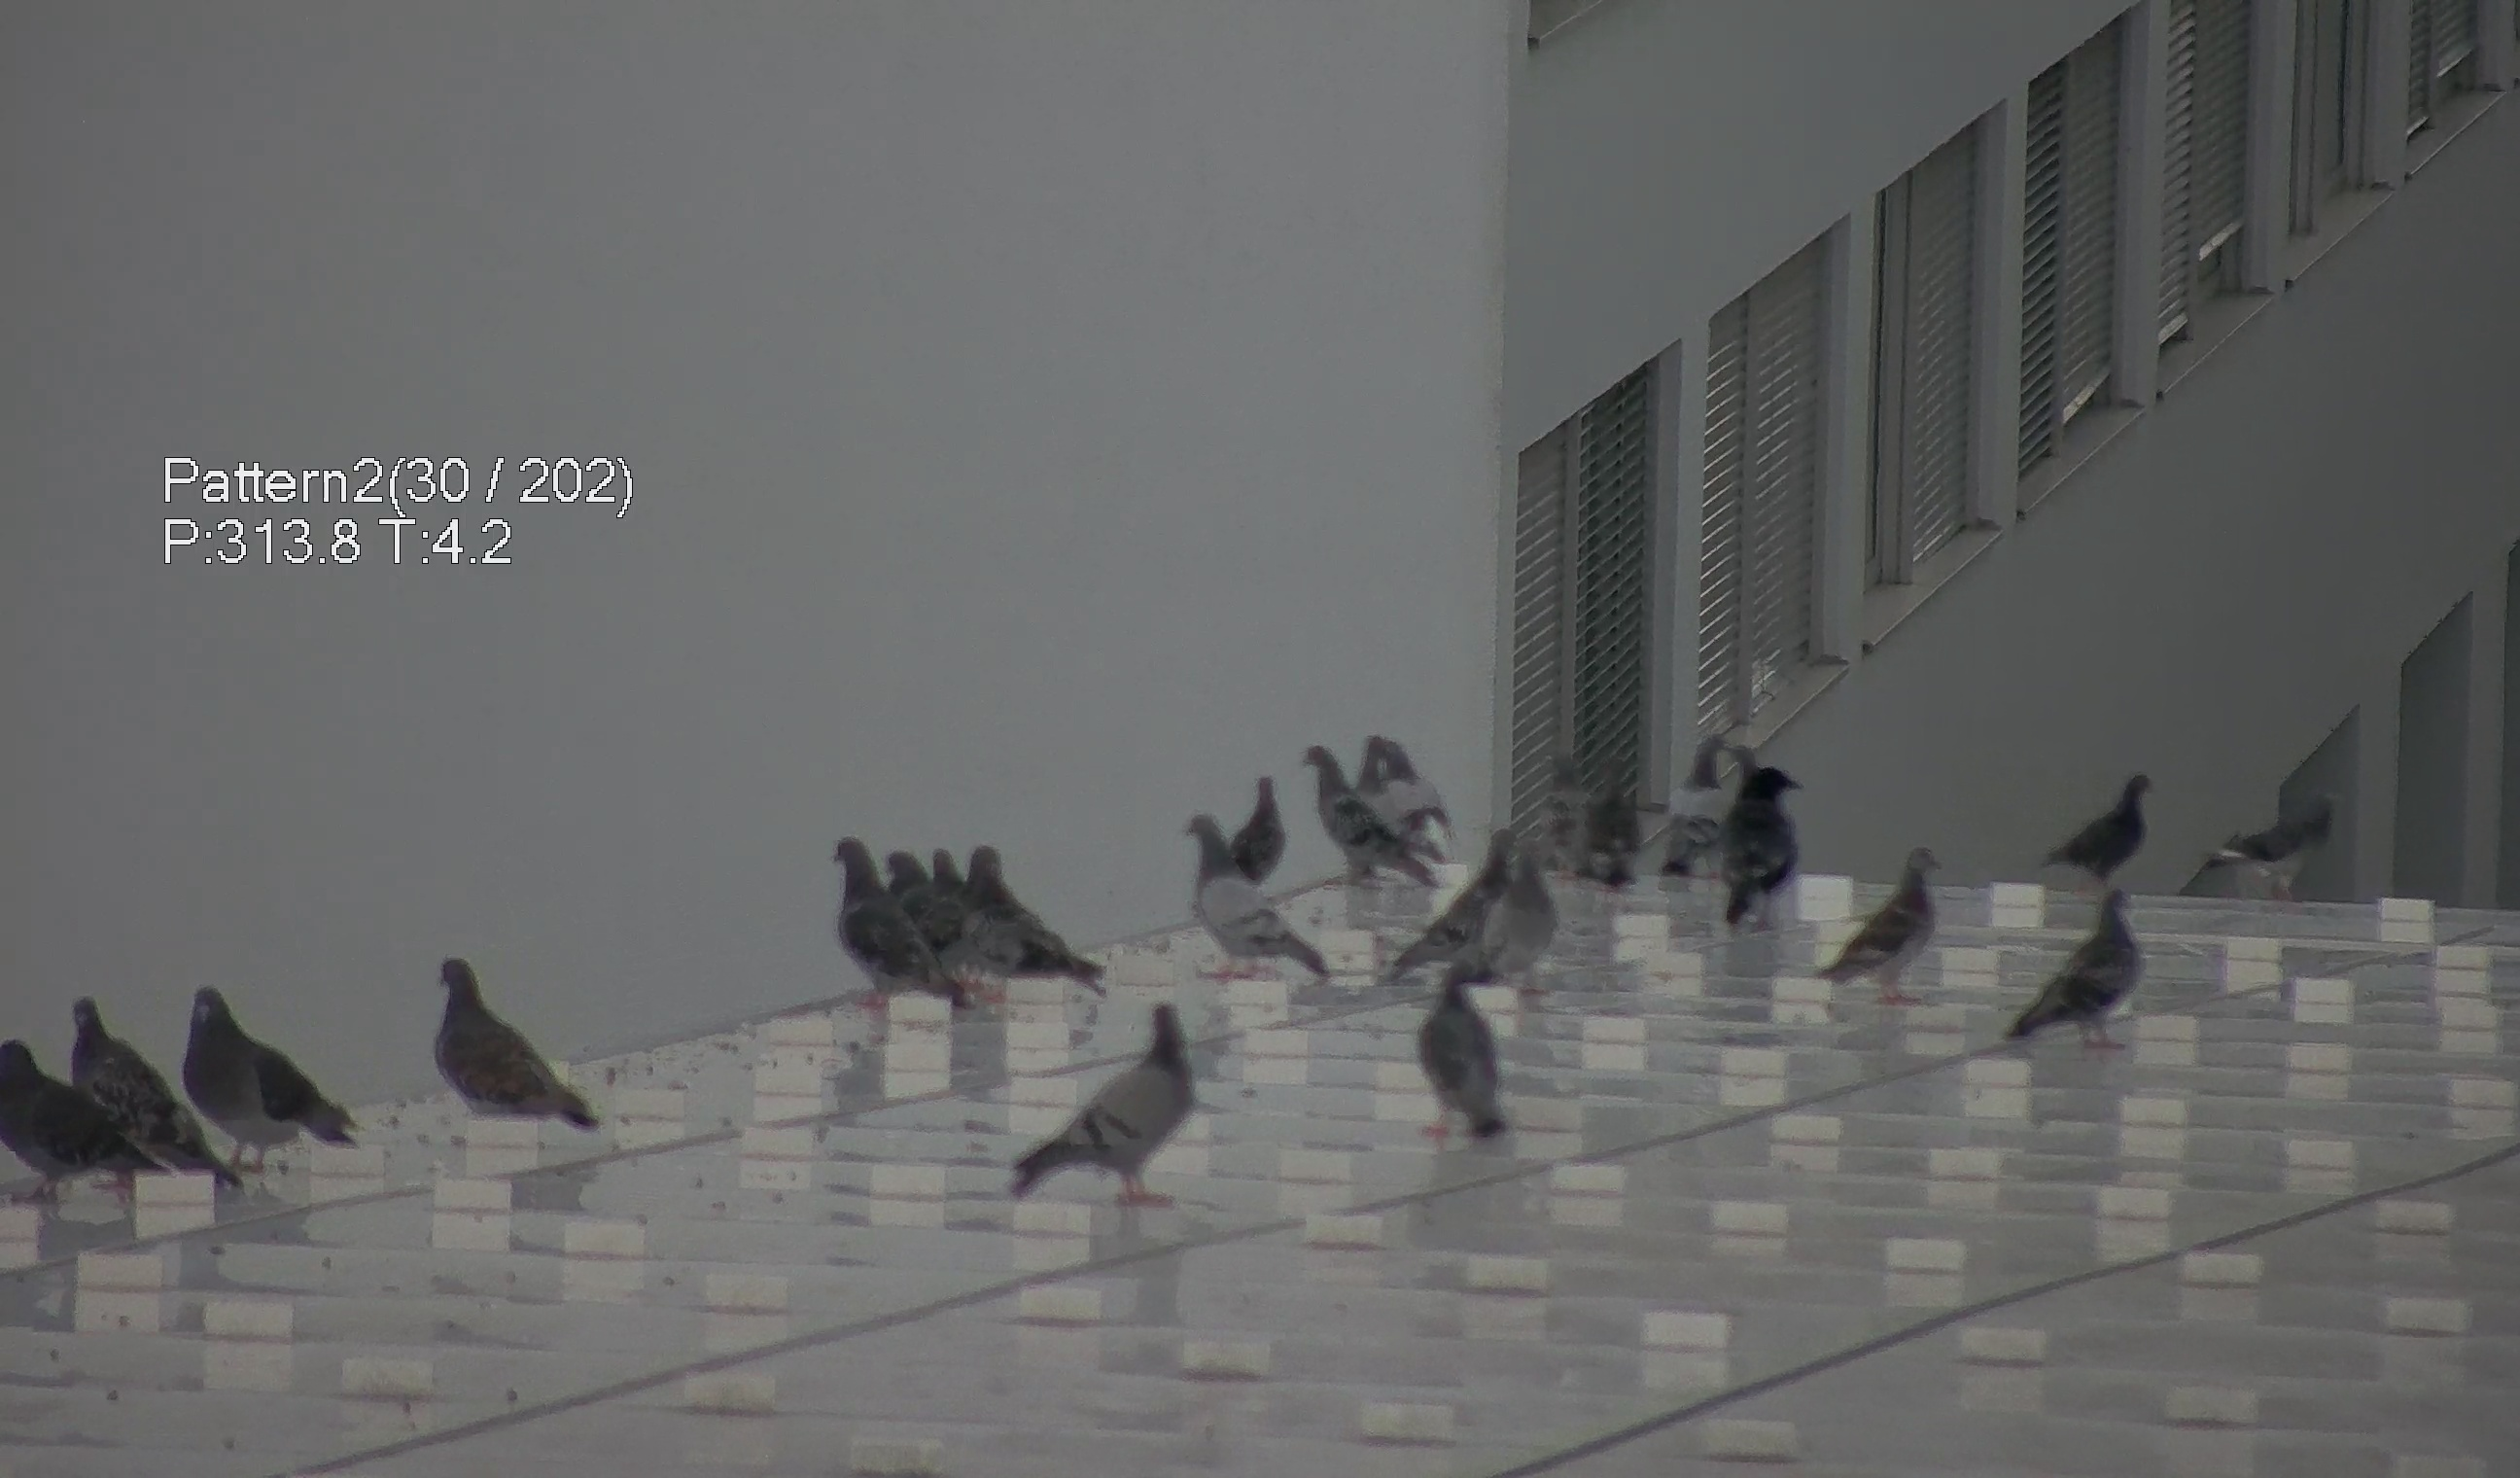Pigeon: (1009, 999, 1215, 1226), (167, 980, 355, 1184), (63, 987, 232, 1202), (401, 950, 587, 1144), (811, 823, 967, 1026), (1171, 806, 1328, 1006), (2014, 889, 2163, 1057), (955, 846, 1110, 994), (1403, 975, 1530, 1147), (1827, 845, 1964, 1003), (1704, 753, 1820, 934), (1402, 829, 1532, 968), (2203, 795, 2353, 911), (1300, 735, 1419, 871), (2056, 764, 2167, 899), (2, 1045, 106, 1184), (1368, 732, 1470, 869), (1474, 843, 1570, 982), (1540, 753, 1632, 892), (1646, 734, 1730, 883), (1215, 772, 1298, 880), (1584, 760, 1655, 866), (883, 845, 976, 913)
